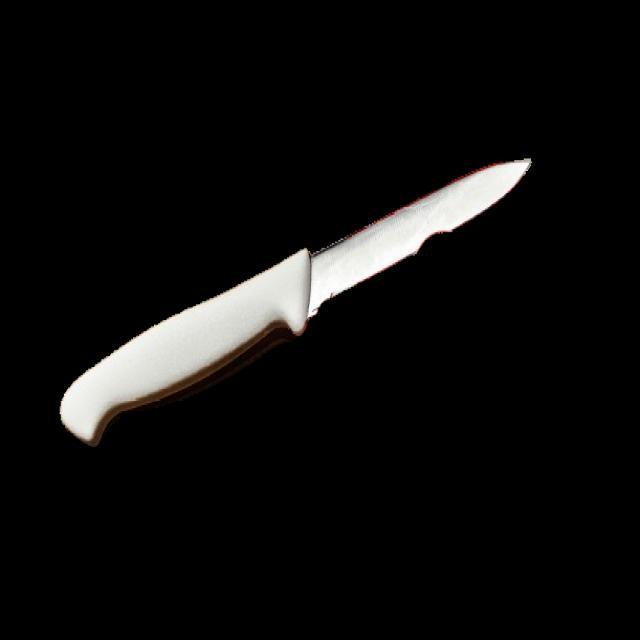knife: (50, 154, 536, 450)
